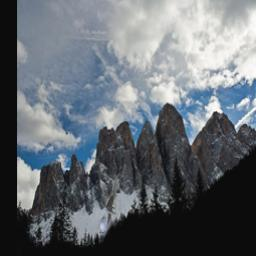Cuckoo: (98, 176, 118, 236)
